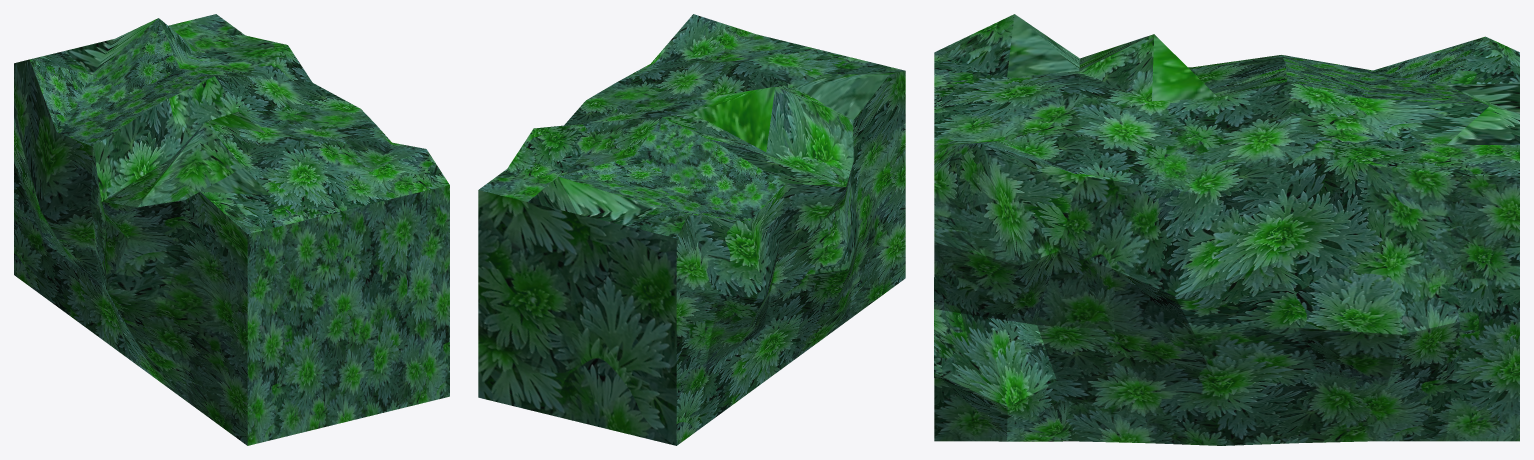
The model's file is modul_2_ok.fbx.
3 renders of one model, left to right at view 1: azimuth 30°, elevation 25°; view 2: azimuth 150°, elevation 25°; view 3: azimuth 270°, elevation 25°, orthographic. The views are drawn at different scales.
Parts seen in each view (by area): view 1: Cube; view 2: Cube; view 3: Cube.
Boxes of the visible parts, x1=… form: Cube: x1=14, y1=14, x2=449, y2=445; Cube: x1=478, y1=14, x2=905, y2=445; Cube: x1=934, y1=14, x2=1519, y2=445.
Bounding box in the file's own units: 288 × 235 × 400.
